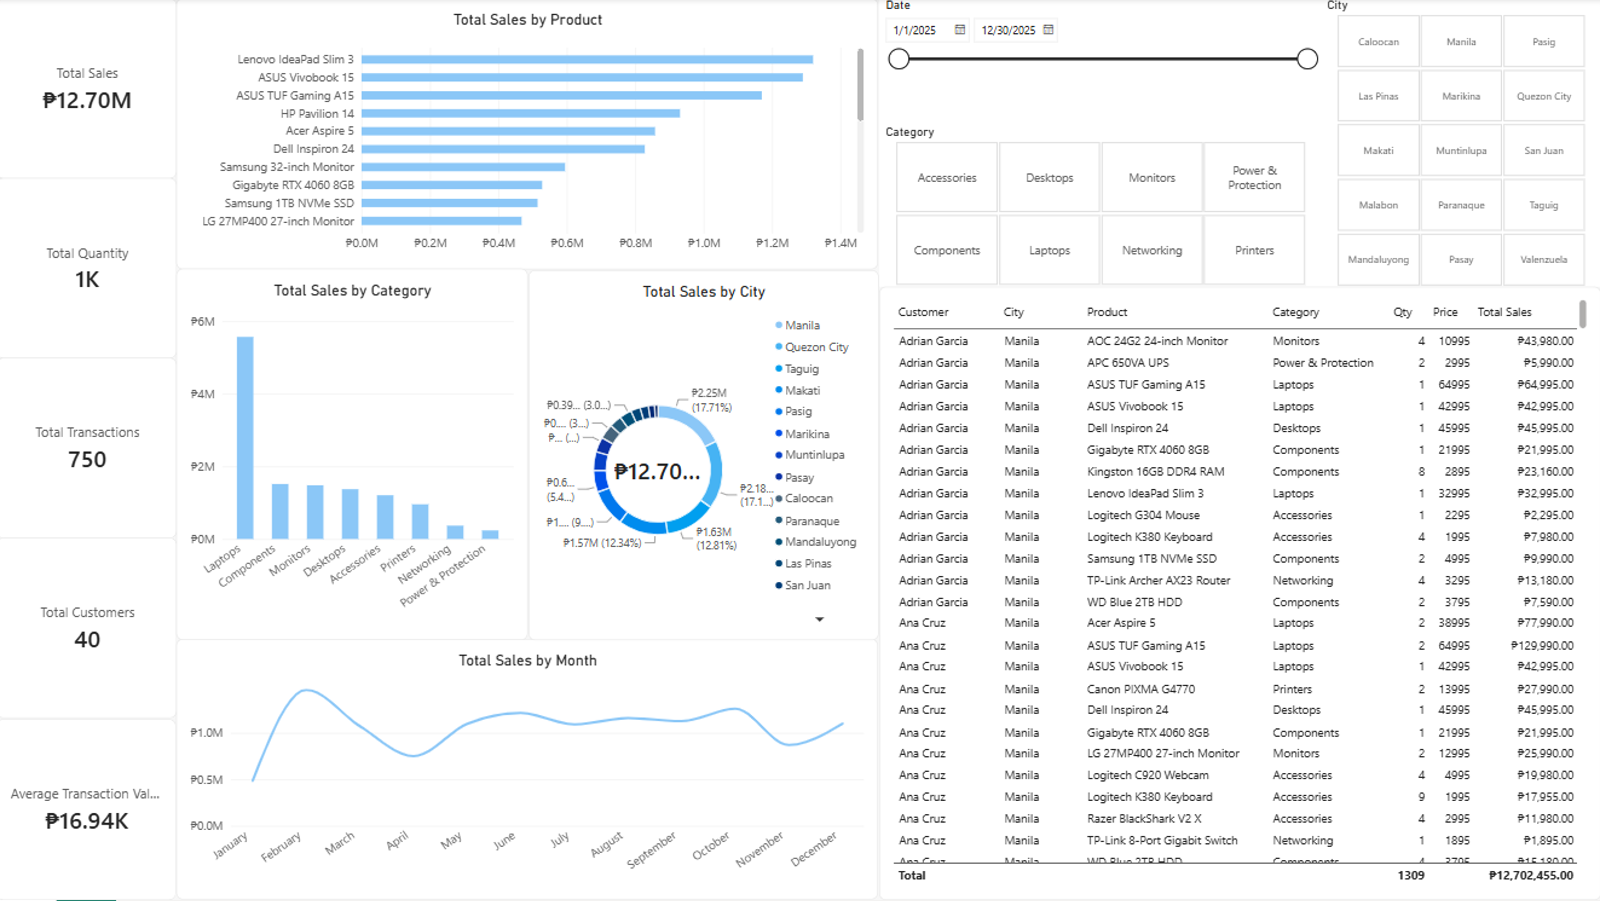

The dashboard page shown, as its layout file describes it:
{"tool":"powerbi","page":{"name":"Report","canvas":[1920,1080],"ordinal":0},"visuals":[{"type":"cardVisual","fields":{"Data":["Sales.Total Sales"]},"box":[0,0,216,216],"z":0},{"type":"cardVisual","fields":{"Data":["Sales.Total Quantity"]},"box":[0,215.6,216,216],"z":1},{"type":"cardVisual","fields":{"Data":["Sales.Total Transactions"]},"box":[0,431.3,216,216],"z":2},{"type":"cardVisual","fields":{"Data":["Sales.Total Customers"]},"box":[0,646.9,216,216],"z":3},{"type":"cardVisual","fields":{"Data":["Sales.Average Transaction Value"]},"box":[0,862.5,215.6,217.1],"z":4},{"type":"slicer","fields":{"Values":["Customers.City"]},"box":[1584.7,0,335.3,345.6],"z":5},{"type":"slicer","fields":{"Values":["Sales.Date"]},"box":[1056,0,528.7,152.1],"z":6},{"type":"slicer","fields":{"Values":["Products.Category"]},"box":[1056,152.1,528.7,193.5],"z":7},{"type":"tableEx","fields":{"Values":["Customers.Customer","Customers.City","Products.Product","Products.Category","Sum(Sales.Quantity)","Products.Price","Sales.Total Sales"]},"box":[1056,345.6,864,734],"z":8},{"type":"clusteredBarChart","title":"Total Sales by Product","fields":{"Category":["Products.Product"],"Y":["Sales.Total Sales"]},"box":[215.6,0,840.4,324.9],"z":9},{"type":"lineChart","title":"Total Sales by Month","fields":{"Category":["Sales.Date.Variation.Date Hierarchy.Quarter","Sales.Date.Variation.Date Hierarchy.Month","Sales.Date.Variation.Date Hierarchy.Day"],"Y":["Sales.Total Sales"]},"box":[215.6,768,840.4,311.6],"z":10},{"type":"clusteredColumnChart","title":"Total Sales by Category","fields":{"Category":["Products.Category"],"Y":["Sales.Total Sales"]},"box":[215.6,323.4,420.9,444.6],"z":11},{"type":"donutChart","title":"Total Sales by City","fields":{"Category":["Customers.City"],"Y":["Sales.Total Sales"]},"box":[637,325,419,443],"z":12}]}

Visuals, with their boxes in screenshot pixels (x1, y1, x2, y2), scaled from the page's 1920x1080 canvas onto the 1600x901 screenshot:
cardVisual - Sales.Total Sales: 0 0 180 180
cardVisual - Sales.Total Quantity: 0 180 180 360
cardVisual - Sales.Total Transactions: 0 360 180 540
cardVisual - Sales.Total Customers: 0 540 180 720
cardVisual - Sales.Average Transaction Value: 0 720 180 900
slicer - Customers.City: 1321 0 1599 288
slicer - Sales.Date: 880 0 1321 127
slicer - Products.Category: 880 127 1321 288
tableEx - Customers.Customer x Customers.City: 880 288 1599 900
"Total Sales by Product" clusteredBarChart: 180 0 880 271
"Total Sales by Month" lineChart: 180 641 880 900
"Total Sales by Category" clusteredColumnChart: 180 270 530 641
"Total Sales by City" donutChart: 531 271 880 641
